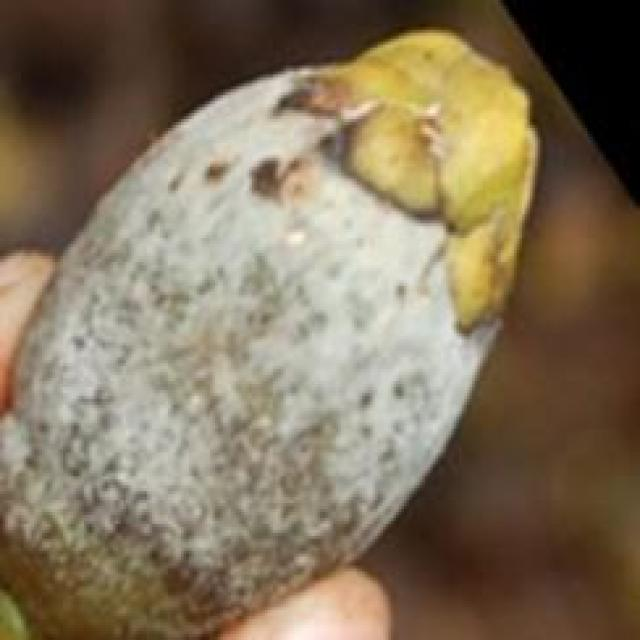damaged: (0, 27, 543, 637)
